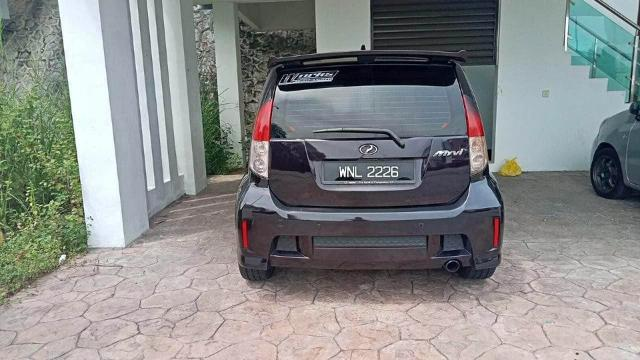License_Plate: (326, 161, 408, 187)
car: (232, 42, 508, 281)
